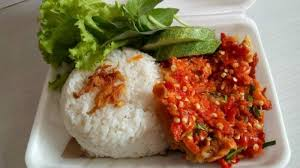ayam_geprek: (150, 32, 251, 158)
